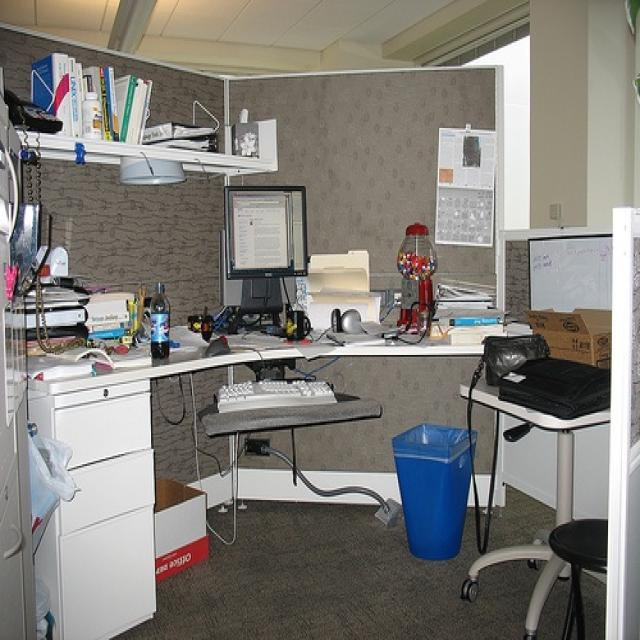tvmonitor: (224, 186, 306, 319)
